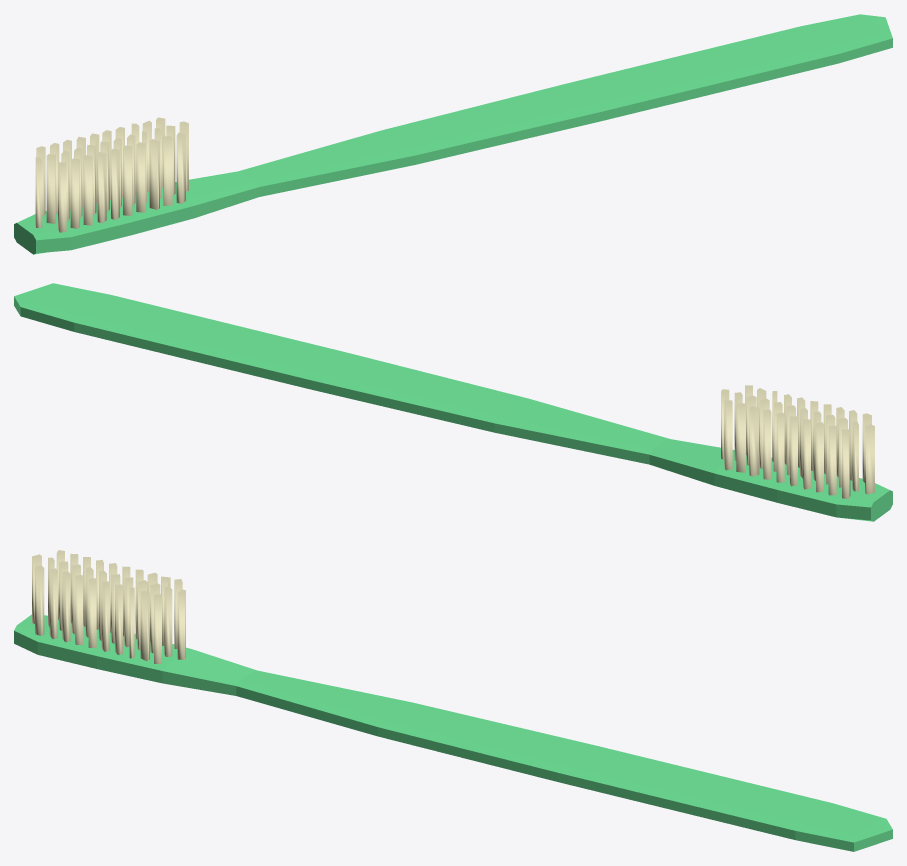
The model's file is Brush.fbx.
3 views of the same model, one above another, from view 1: azimuth 30°, elevation 25°; view 2: azimuth 150°, elevation 25°; view 3: azimuth 330°, elevation 25° (orthographic).
Visible parts, largest first — view 1: Brush; view 2: Brush; view 3: Brush.
Boxes of the visible parts, box(x1,y1,x2,y2) form: Brush: box(14, 14, 892, 254); Brush: box(14, 283, 892, 521); Brush: box(14, 550, 892, 851).
Size of the model in its own units: 297 by 28.36 by 22.51.
